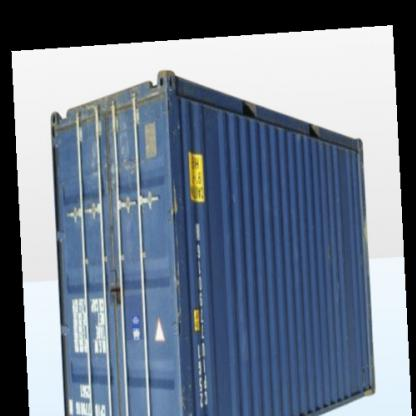Damage: (82, 116, 140, 212), (168, 228, 186, 341), (318, 236, 338, 274), (220, 187, 240, 211)
